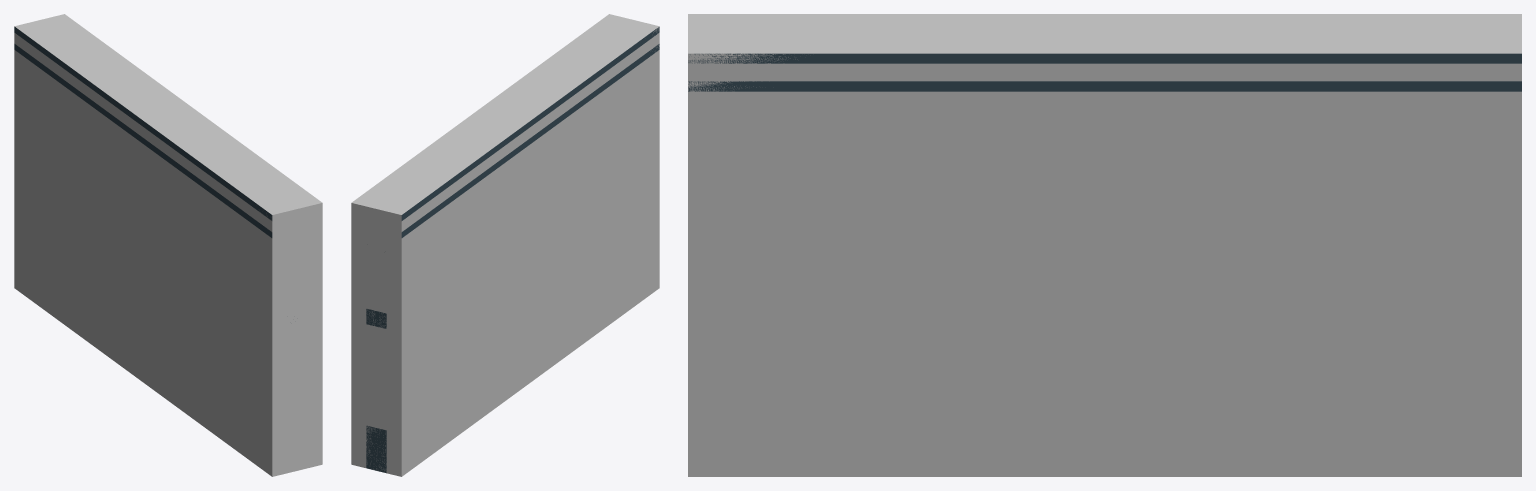
Rendered from SM_Railing_Middle.fbx.
3 views of the same model, side by side, from view 1: azimuth 30°, elevation 25°; view 2: azimuth 150°, elevation 25°; view 3: azimuth 270°, elevation 25° (orthographic). The views are drawn at different scales.
Parts seen in each view (by area): view 1: SM_Railing_Middle_ConvexHulls, SM_Railing_Middle; view 2: SM_Railing_Middle_ConvexHulls, SM_Railing_Middle; view 3: SM_Railing_Middle_ConvexHulls, SM_Railing_Middle.
Part boxes in pixels (x1=…): SM_Railing_Middle_ConvexHulls: x1=14, y1=14, x2=322, y2=476; SM_Railing_Middle: x1=14, y1=26, x2=272, y2=237; SM_Railing_Middle_ConvexHulls: x1=351, y1=14, x2=659, y2=476; SM_Railing_Middle: x1=366, y1=27, x2=659, y2=473; SM_Railing_Middle_ConvexHulls: x1=688, y1=14, x2=1521, y2=476; SM_Railing_Middle: x1=688, y1=53, x2=1521, y2=91.
Size of the model in its own units: 22.55 by 200 by 112.
